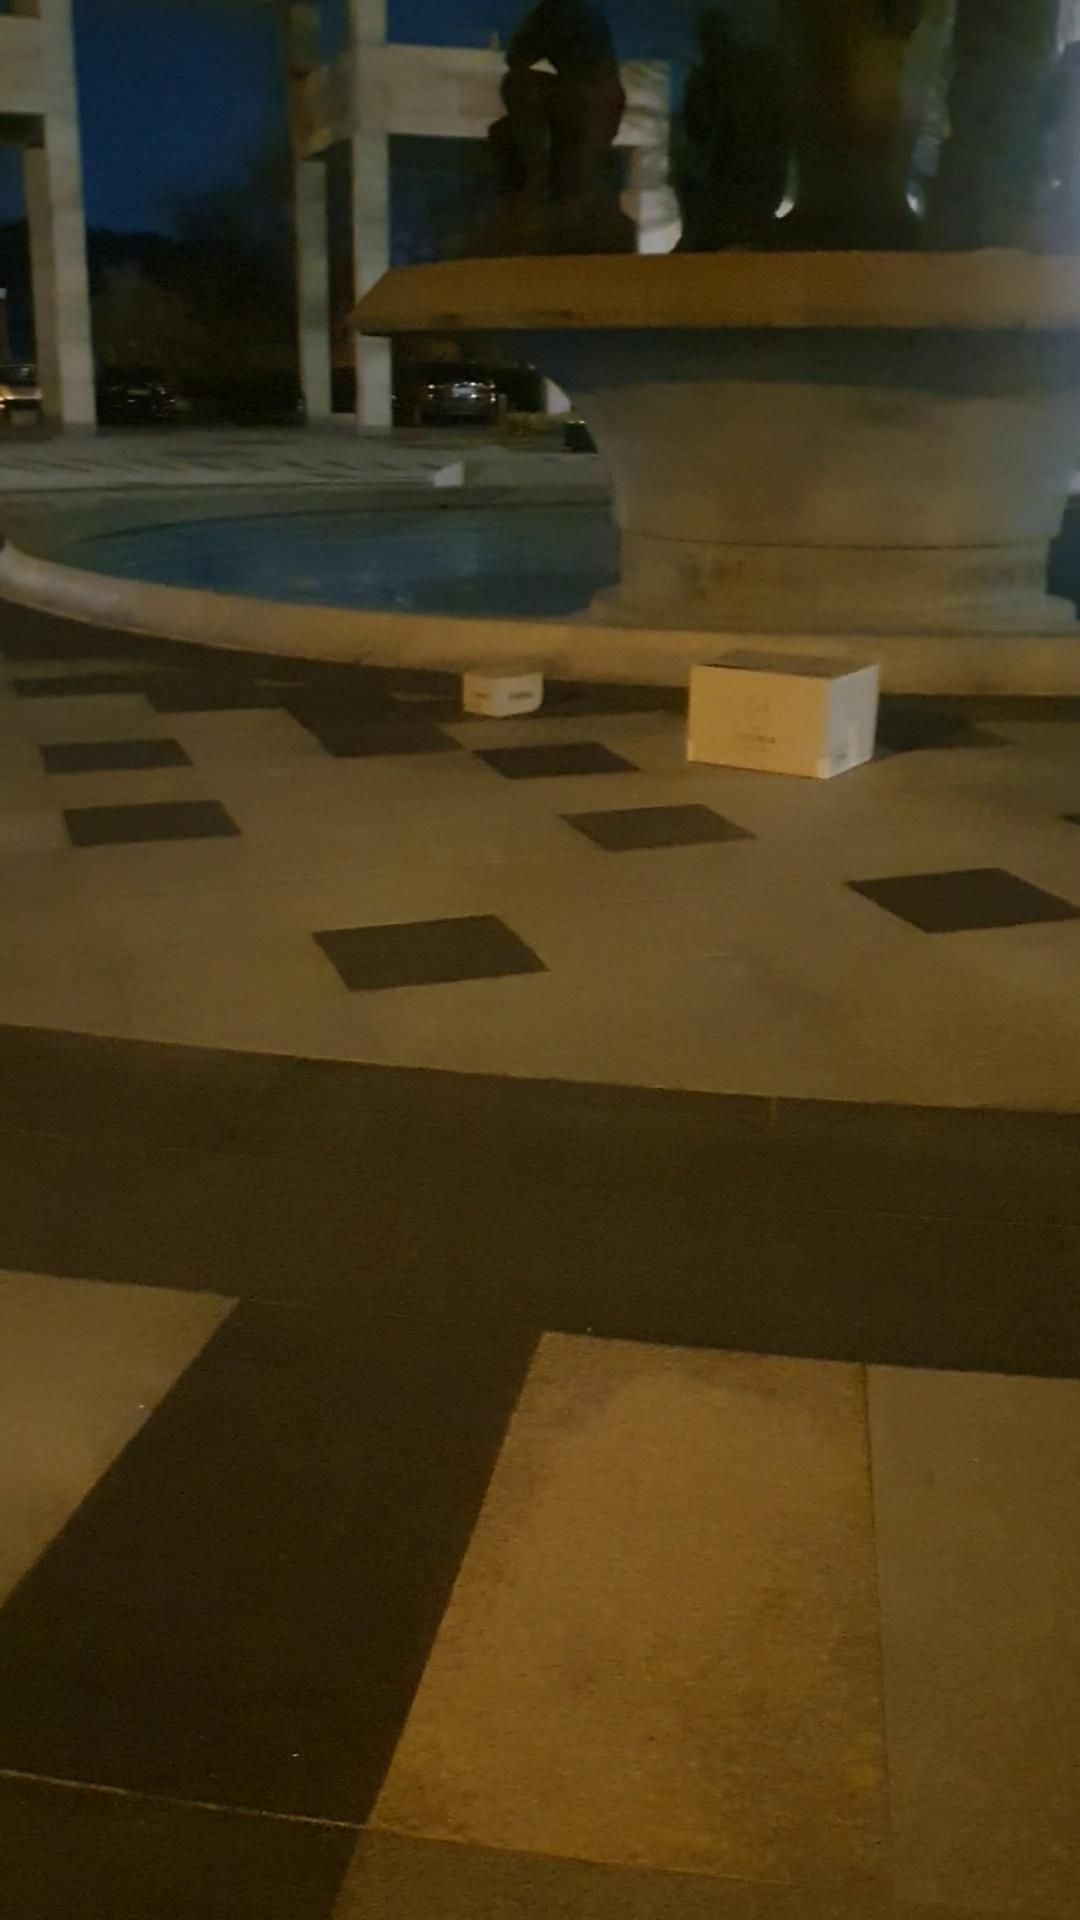Box: (658, 640, 905, 787), (448, 640, 553, 737)
